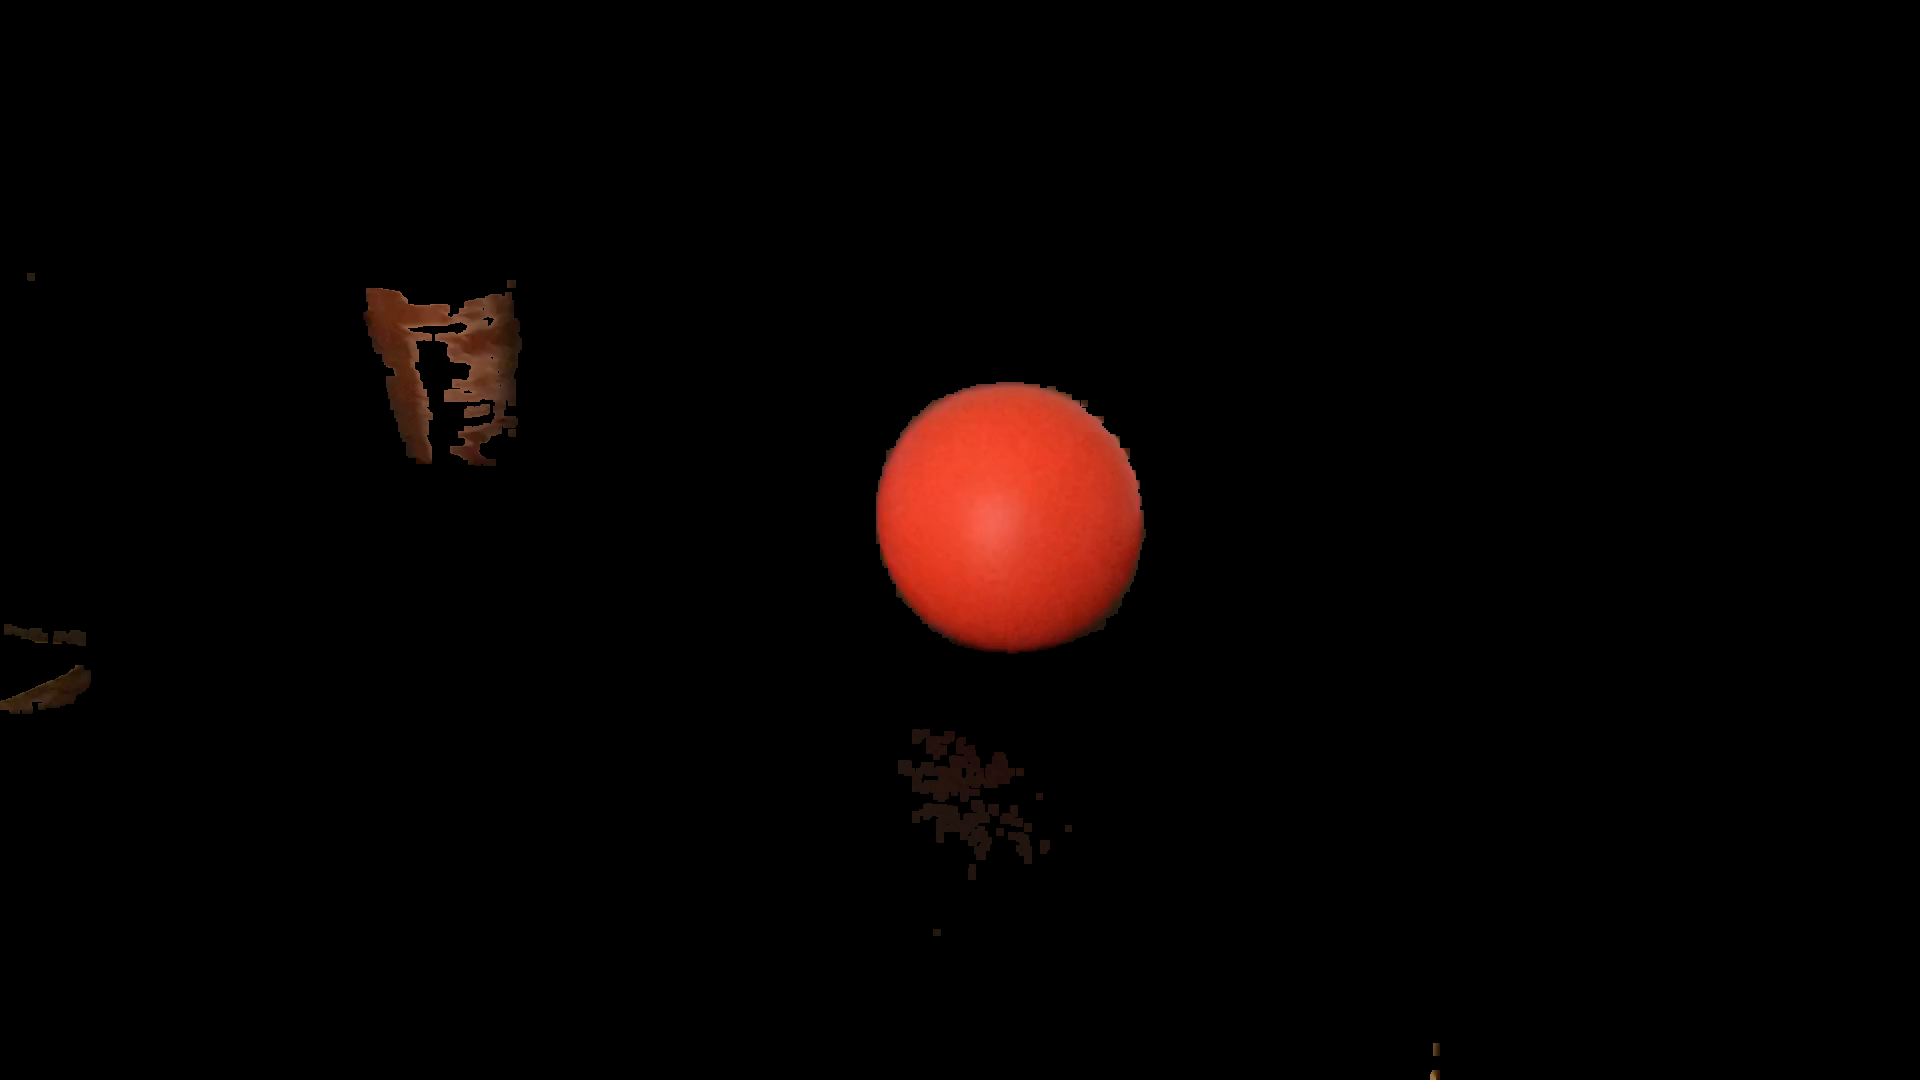Ball: (876, 372, 1145, 654)
